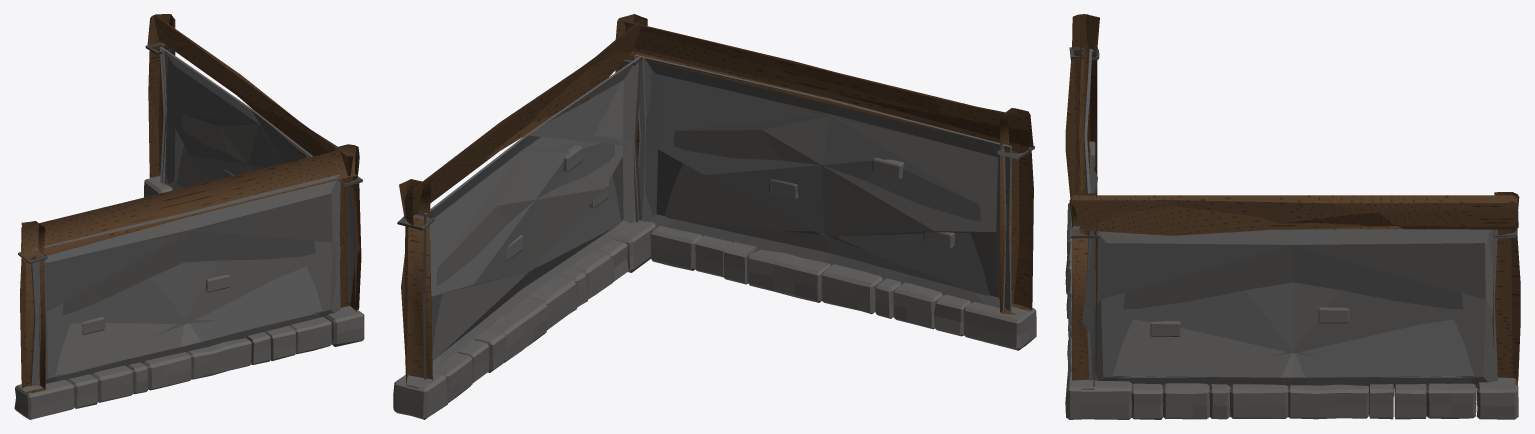
The model's file is plain_stone_corner_wall.glb.
The picture shows the model from 3 angles, left to right: view 1: azimuth 30°, elevation 25°; view 2: azimuth 150°, elevation 25°; view 3: azimuth 270°, elevation 25°; orthographic projection. The views are drawn at different scales.
Visible parts, largest first — view 1: plain_stone_corner_wall; view 2: plain_stone_corner_wall; view 3: plain_stone_corner_wall.
Boxes of the visible parts, x1,y1,x2,y2 form: plain_stone_corner_wall: (14,14,364,419); plain_stone_corner_wall: (393,14,1036,419); plain_stone_corner_wall: (1065,14,1520,419).
Bounding box in the file's own units: 12.36 × 6.6 × 12.45.
Materials: 4 (4 with a texture image).
